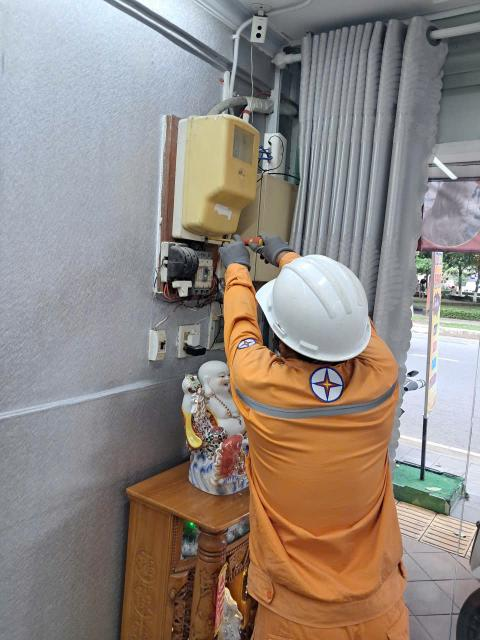gloves: (258, 216, 304, 268), (213, 231, 263, 277)
helmet: (257, 241, 370, 372)
